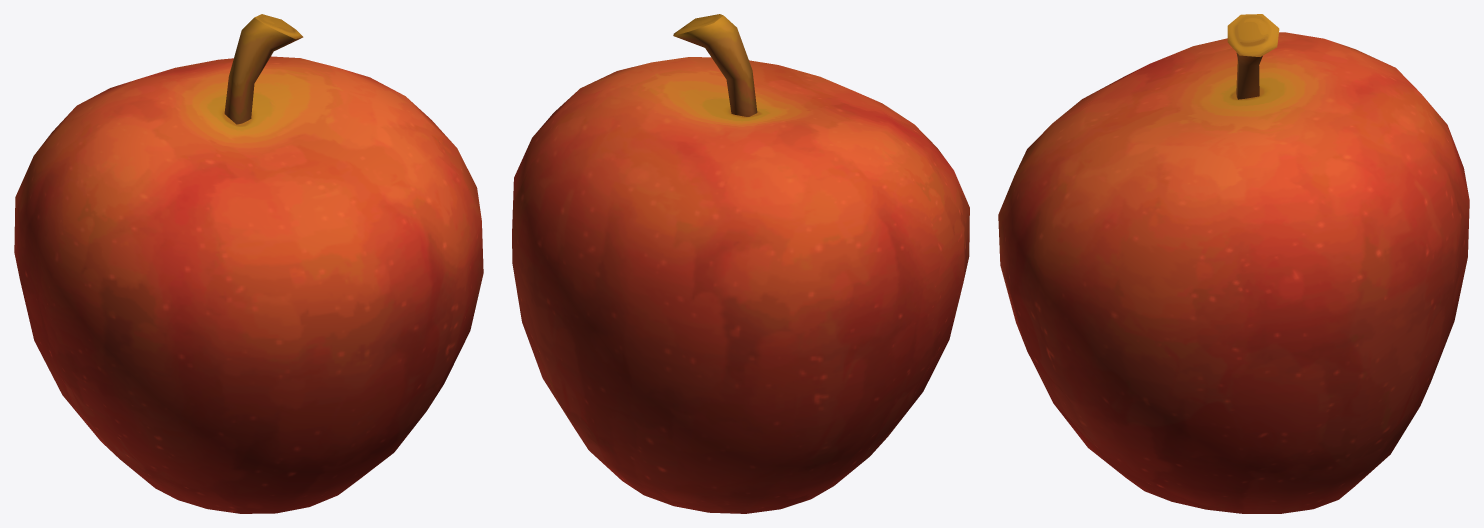
File: SM_AppleRed.fbx
3 views of the same model, side by side, from view 1: azimuth 30°, elevation 25°; view 2: azimuth 150°, elevation 25°; view 3: azimuth 270°, elevation 25° (orthographic). The views are drawn at different scales.
Visible parts, largest first — view 1: SM_AppleRed; view 2: SM_AppleRed; view 3: SM_AppleRed.
Part boxes in pixels (x1,y1,x2,y2): SM_AppleRed: [14, 14, 483, 513]; SM_AppleRed: [512, 14, 969, 513]; SM_AppleRed: [998, 14, 1469, 513].
Bounding box in the file's own units: 13.06 × 14.1 × 12.74.
